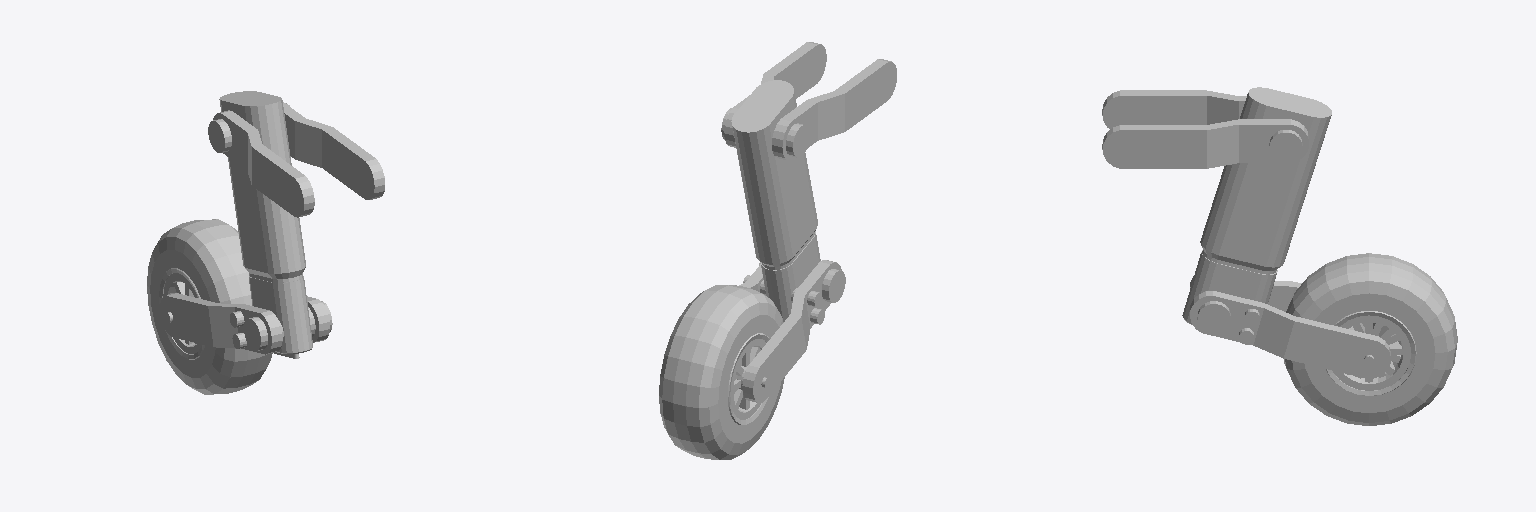
The model's file is gearleft.obj.
3 renders of one model, left to right at view 1: azimuth 30°, elevation 25°; view 2: azimuth 150°, elevation 25°; view 3: azimuth 270°, elevation 25°, orthographic.
Visible parts, largest first — view 1: Bell222_GEAR_LEFT; view 2: Bell222_GEAR_LEFT; view 3: Bell222_GEAR_LEFT.
Part boxes in pixels (left/top/right/bottom): Bell222_GEAR_LEFT: left=147, top=91, right=384, bottom=394; Bell222_GEAR_LEFT: left=659, top=42, right=896, bottom=459; Bell222_GEAR_LEFT: left=1102, top=87, right=1457, bottom=425.
Bounding box in the file's own units: 0.5161 × 1.85 × 1.82.